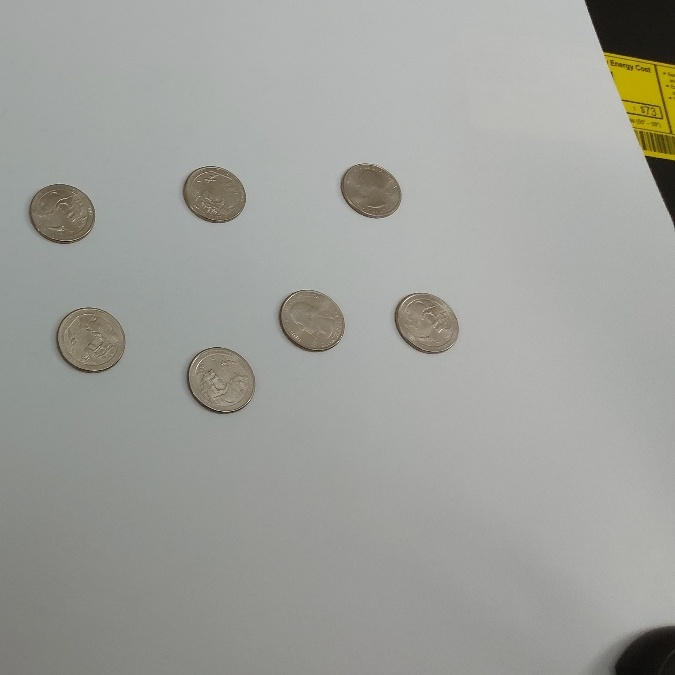coin_quarter: (182, 342, 257, 413), (275, 286, 350, 356), (55, 302, 130, 372), (391, 286, 462, 351), (26, 184, 98, 248), (180, 162, 252, 226), (339, 153, 411, 217)
